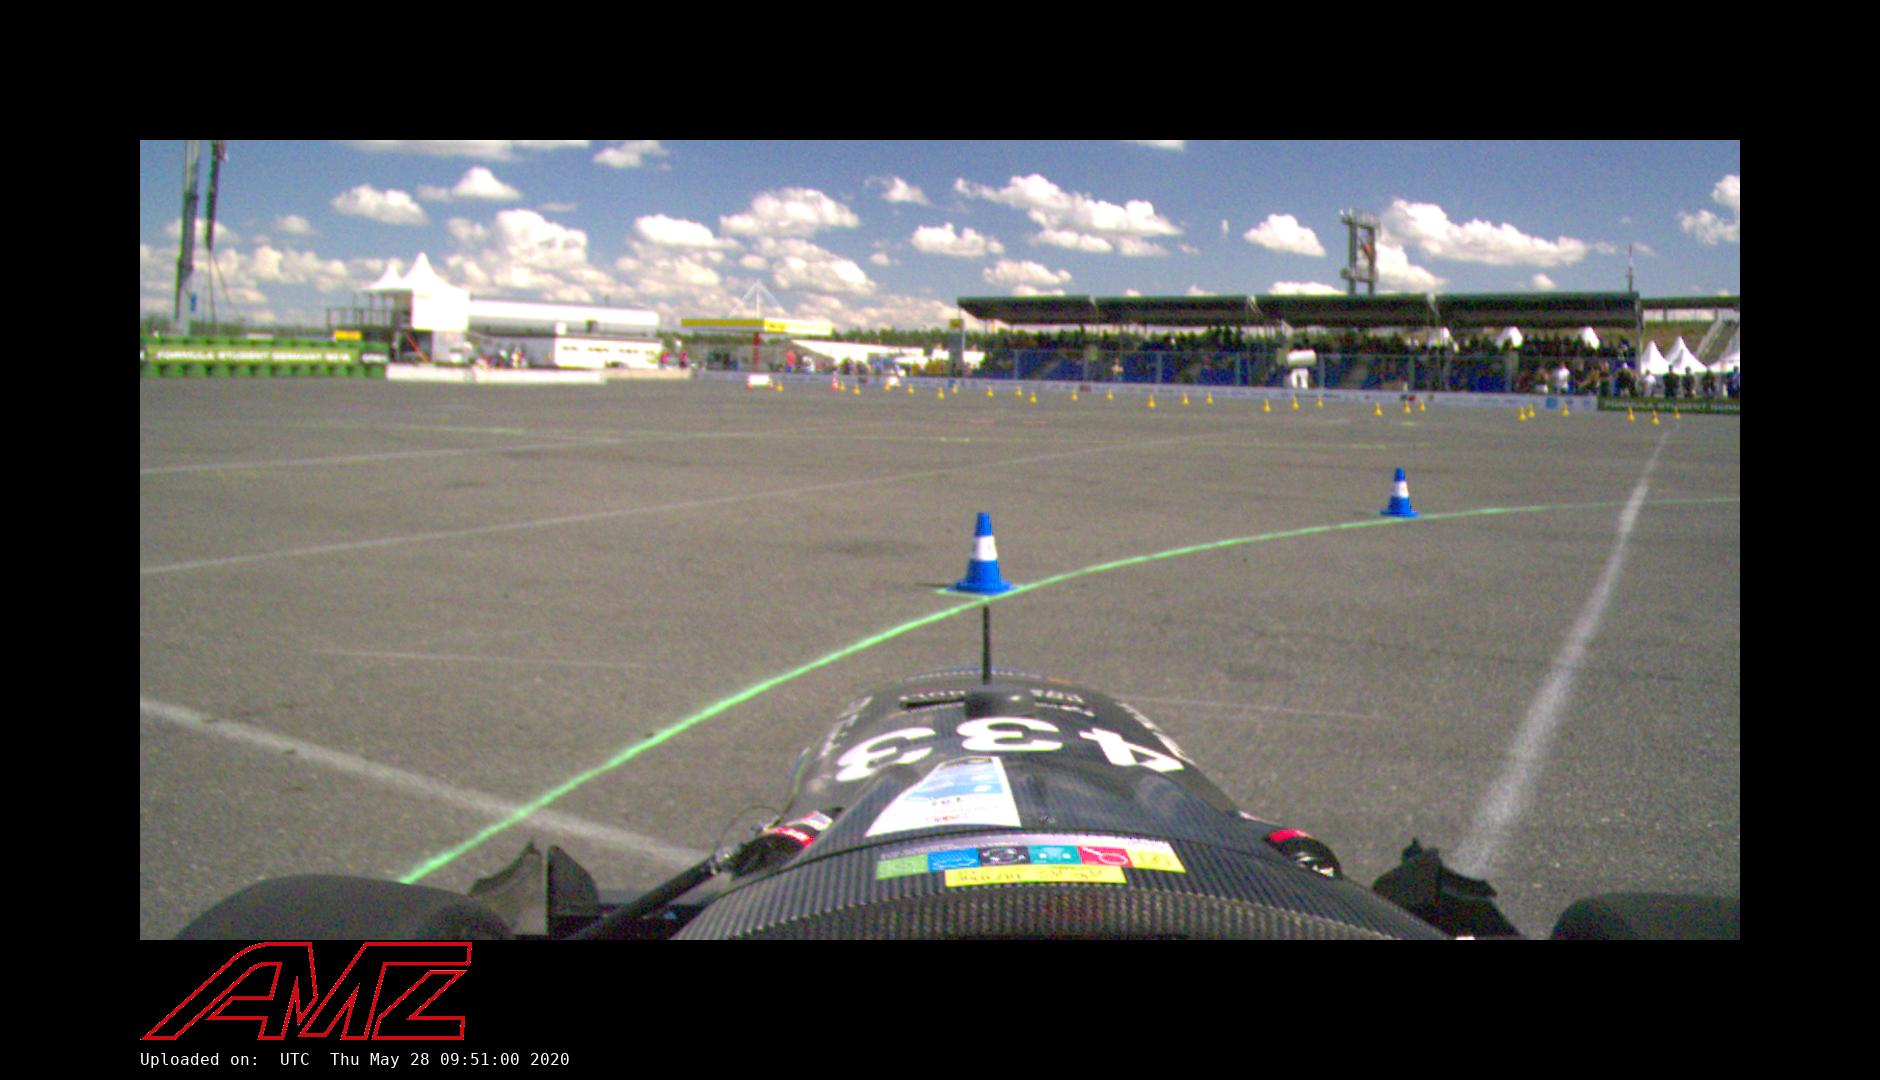blue_cone: (946, 512, 1017, 596), (1379, 466, 1422, 518)
